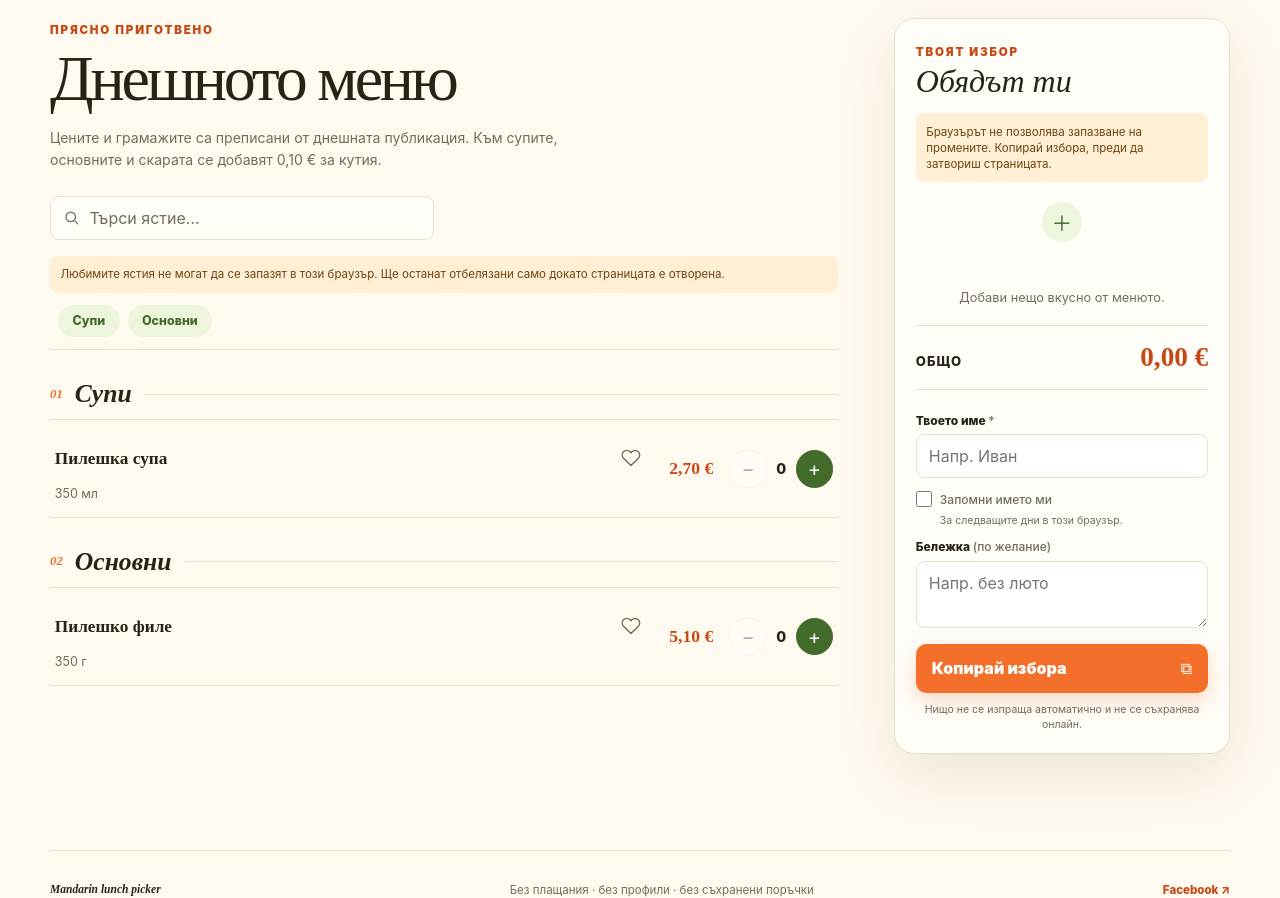
Test case: dish favorites › keeps hearts usable and reports favorites that cannot be saved when storage is blocked
(page scrolled)
What coordinates should you click on to do the following:
click the button named "Любимо ястие: Пилешка супа"
I would click on:
 (631, 458)
Its box is [609, 436, 653, 480].
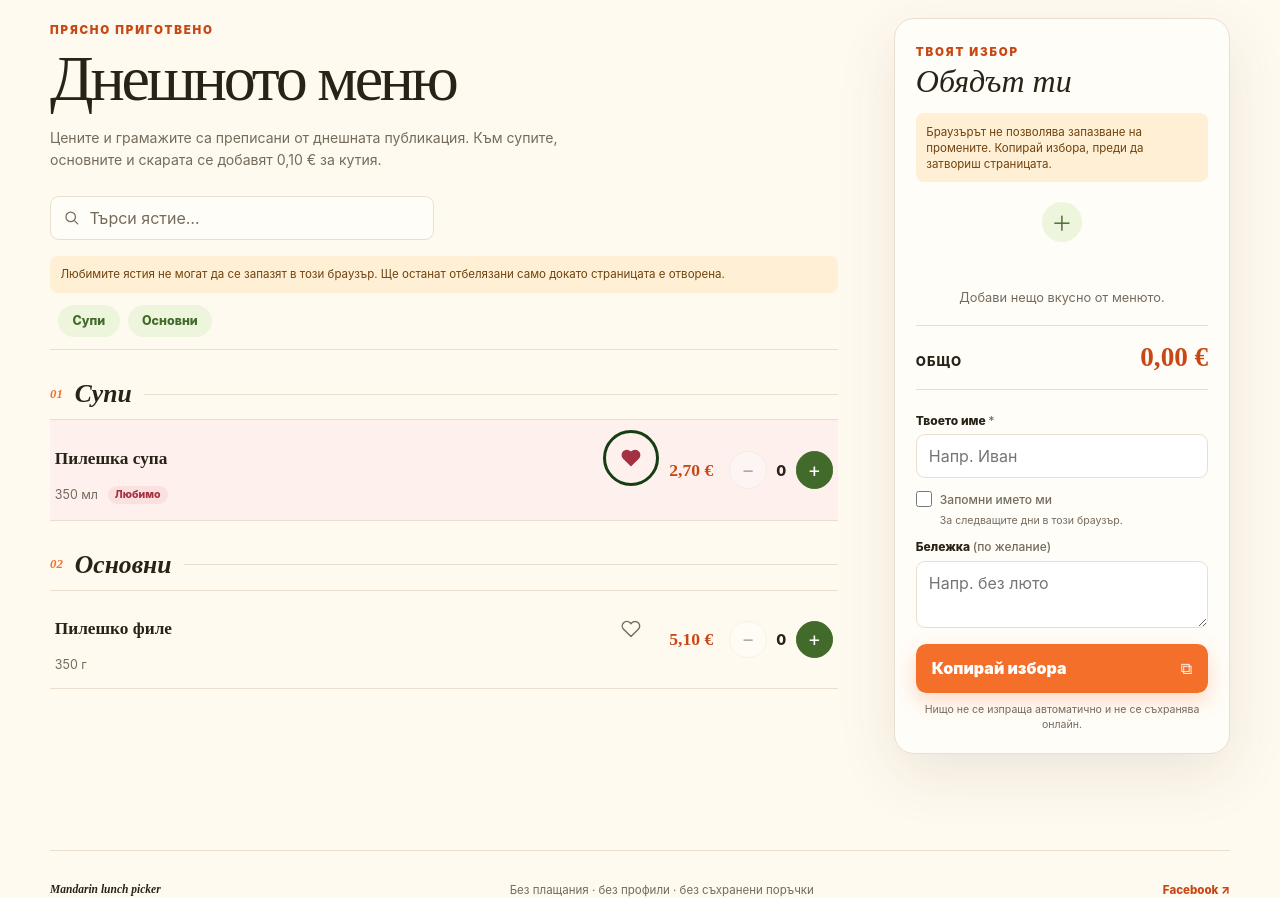
What coordinates should you click on to do the following:
click the button named "Любимо ястие: Пилешко филе"
I would click on:
 (631, 629)
Its box is [609, 607, 653, 651].
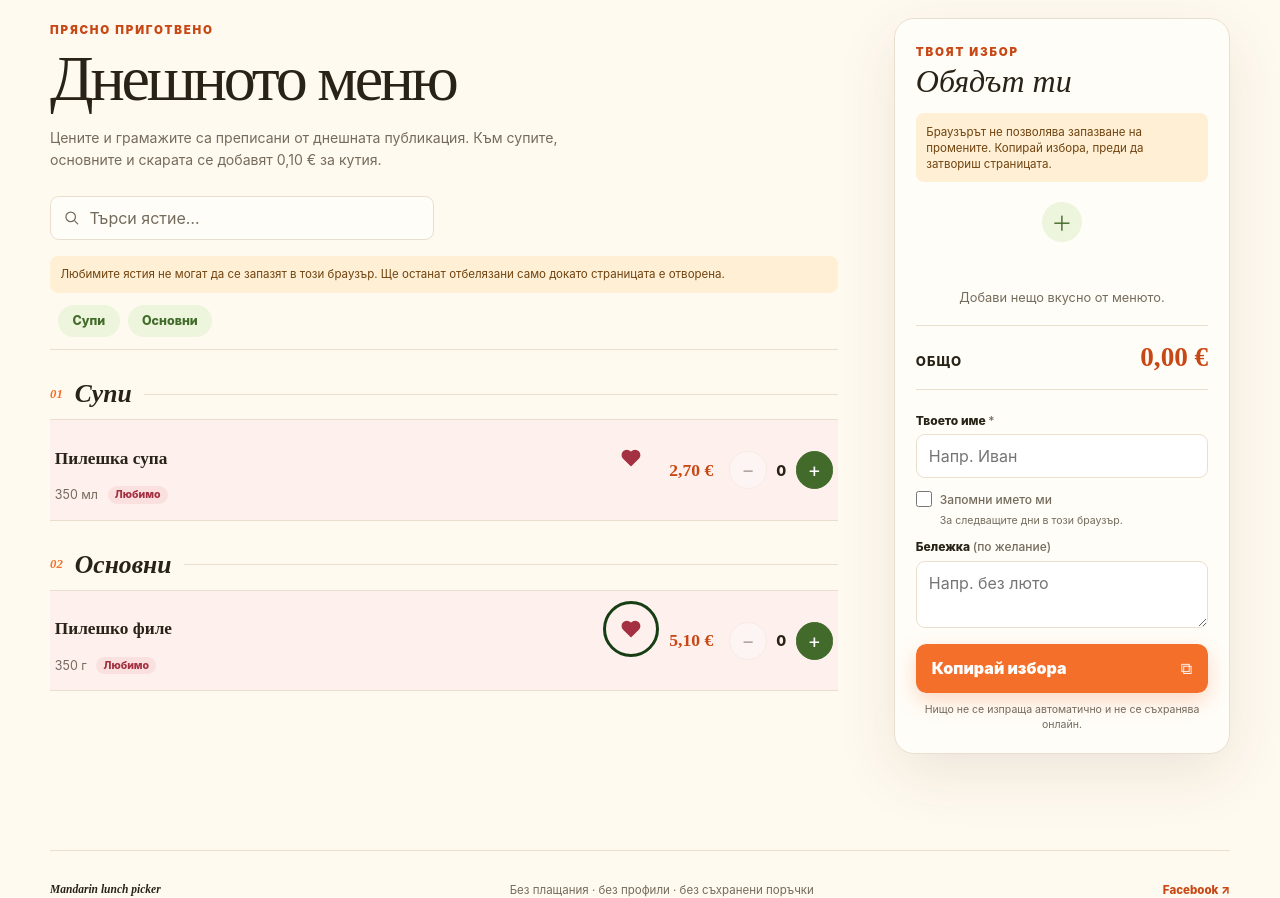
Expected: the text "Любимите ястия не могат да се запазят" is shown, [60, 267, 725, 281]
What coordinates should you click on to do the following:
click the button named "Добави Пилешка супа"
I would click on:
 (814, 470)
Its box is [796, 451, 833, 489].
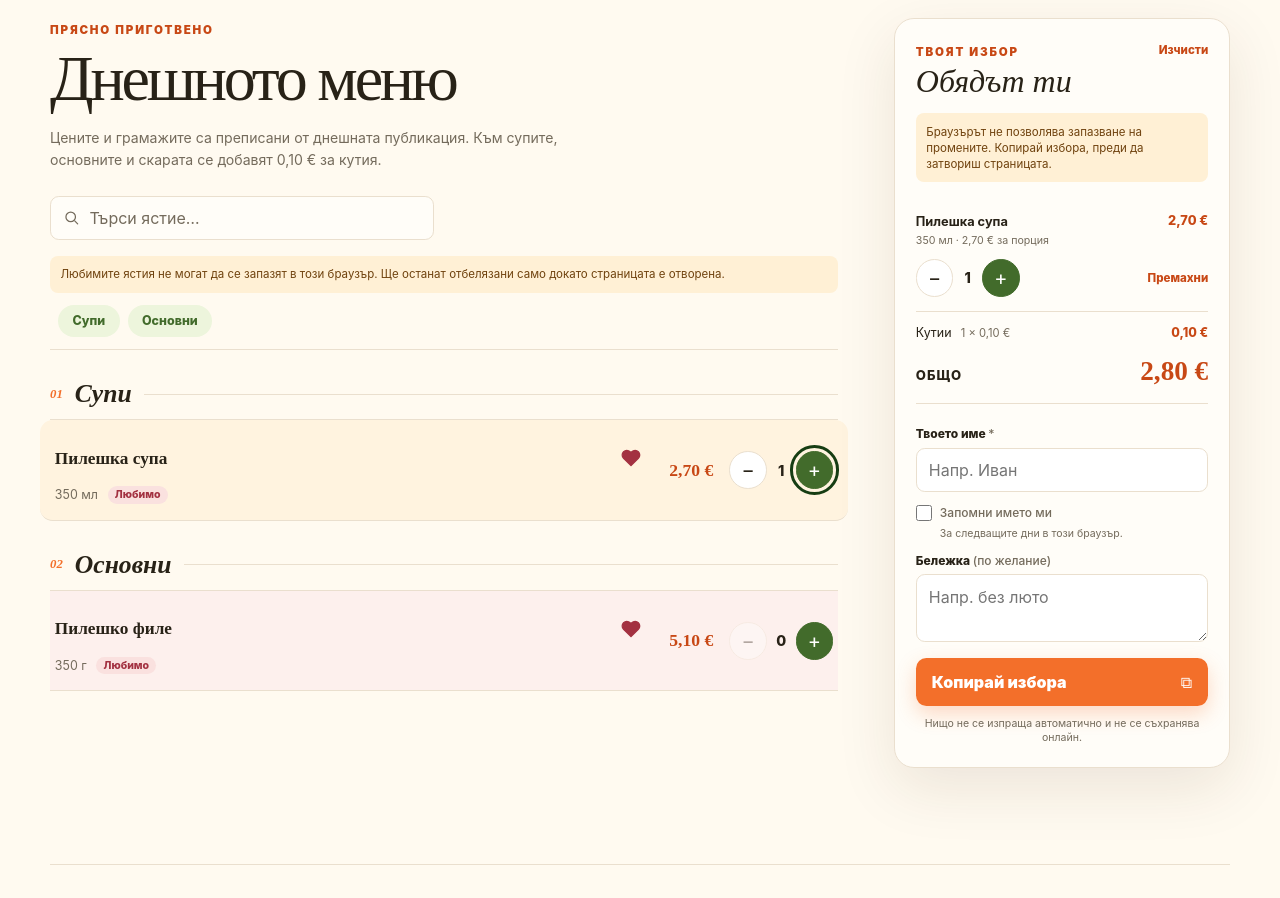
Result: the text named "Избрано количество: 1" reads "1" at [778, 462, 784, 479]
